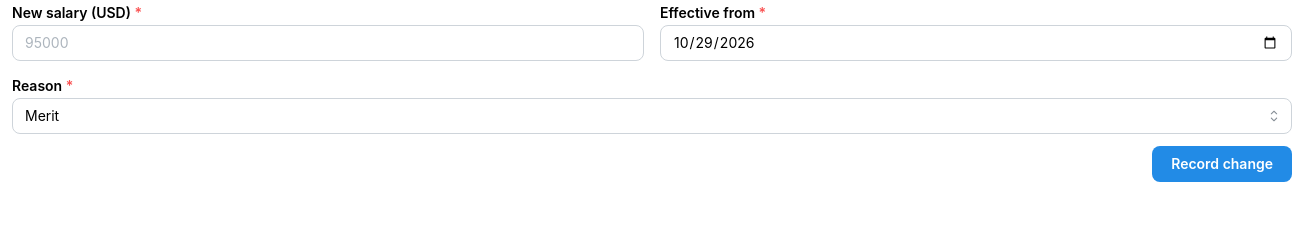
it: SalaryForm › amount parsing › recognises a decrease
Type "90000" into the field labelled "New salary (USD) *" at point(328, 43), box x1=12 y1=25 x2=644 y2=61
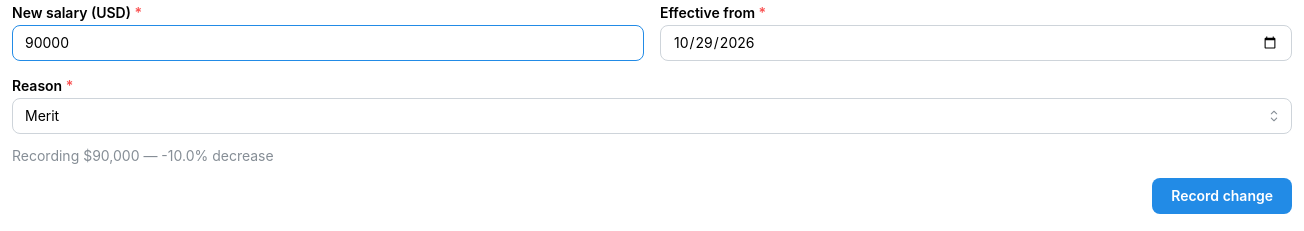
Now the text "Recording $90,000 — -10.0% decrease" is shown, box x1=12 y1=147 x2=274 y2=164
